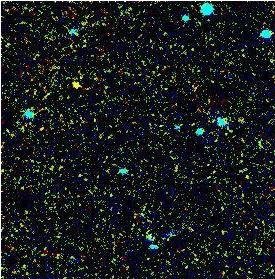star: (58, 68, 88, 98)
